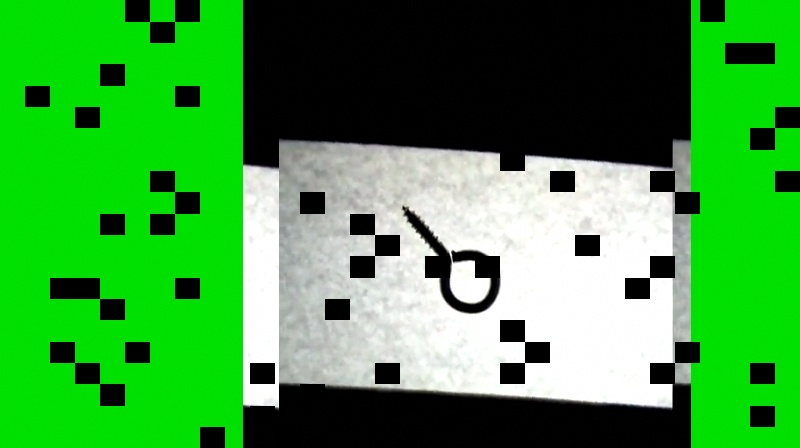O001: (400, 197, 502, 318)
